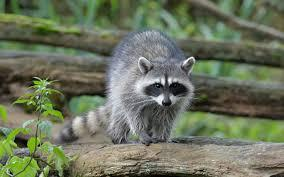raccoon: (46, 16, 209, 160)
